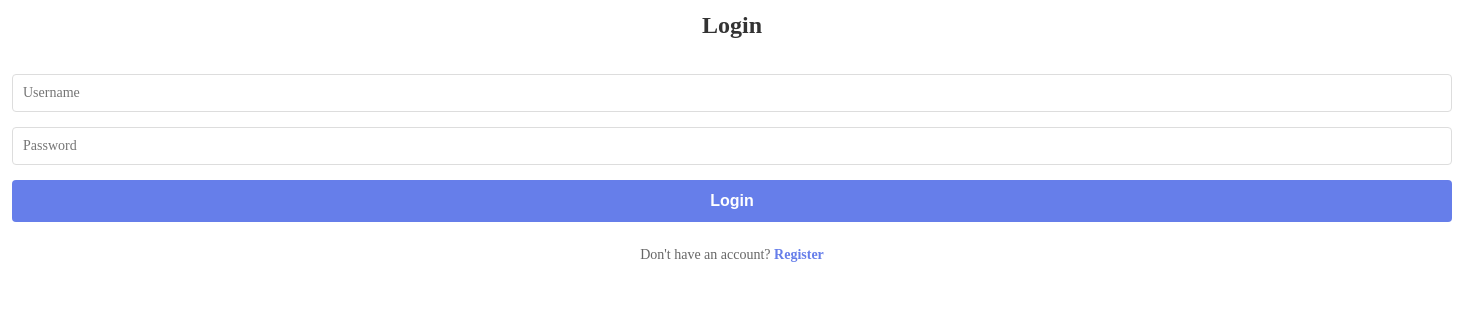
Login Component Integration Tests (Mocking Fetch) › Hiển thị lỗi validation khi submit form rỗng (Dữ liệu không hợp lệ)
The image size is (1464, 319).
Click the button with test id "login-button" at (732, 201), box [12, 180, 1452, 222]
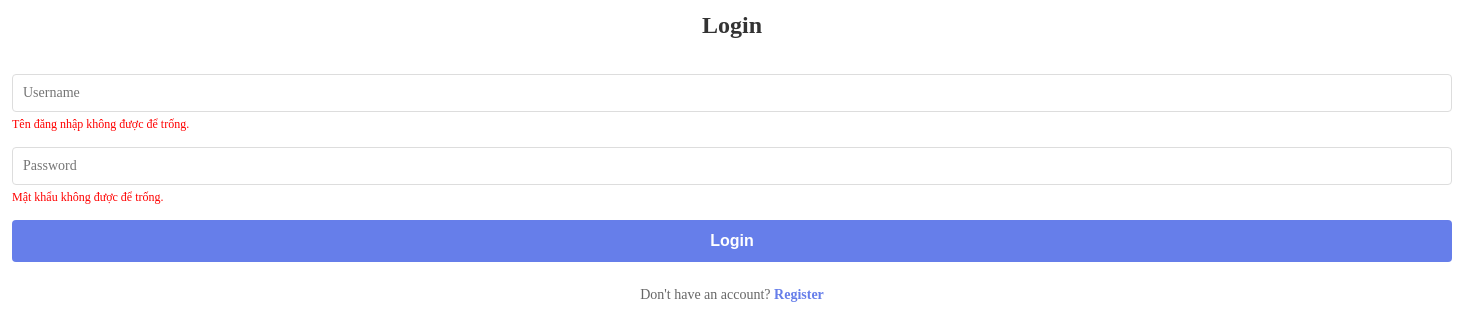
Check: the text with test id "username-error" reads "Tên đăng nhập không được để trống.", box [12, 117, 189, 131]
Check: the text with test id "password-error" reads "Mật khẩu không được để trống.", box [12, 190, 164, 204]
